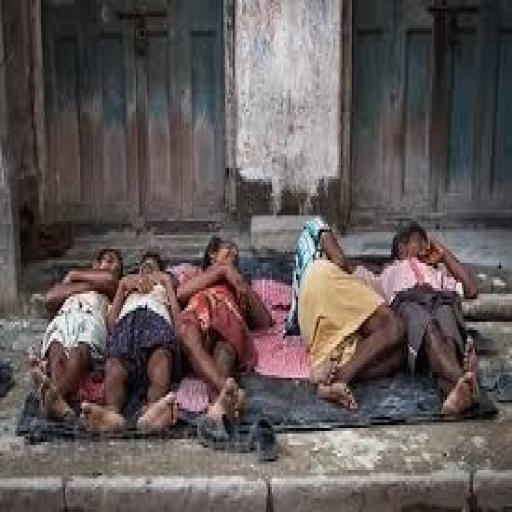sleeping: (44, 182, 488, 509)
